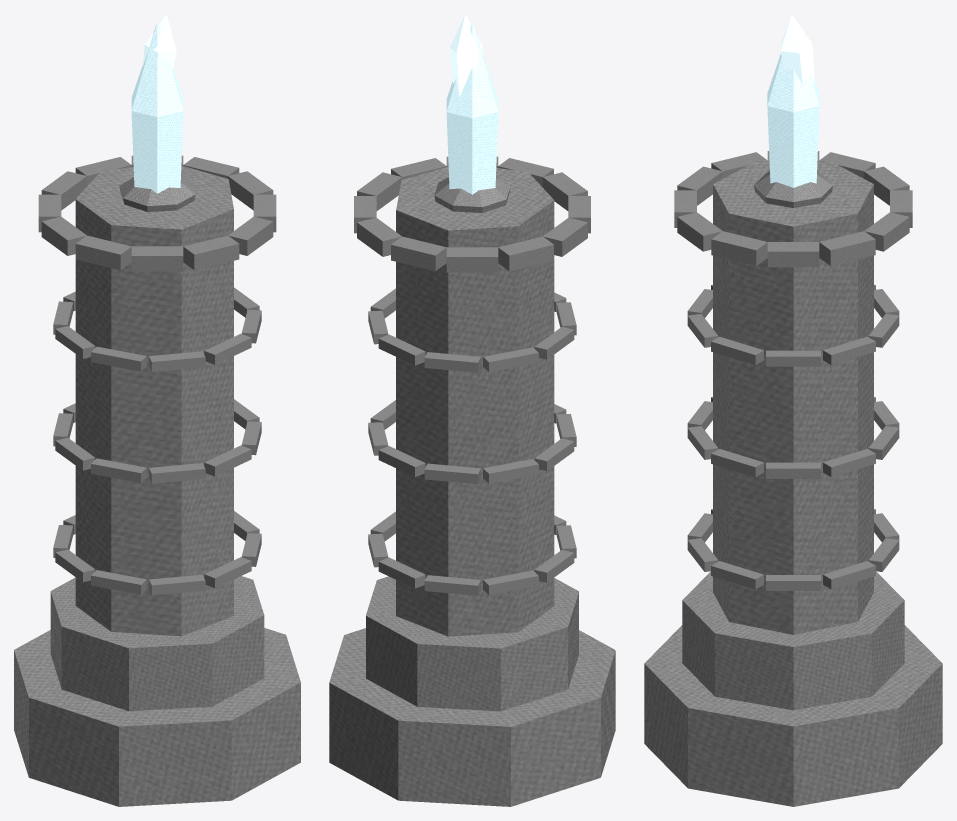
The model's file is crystal-wardstone.glb.
3 renders of one model, left to right at view 1: azimuth 30°, elevation 25°; view 2: azimuth 150°, elevation 25°; view 3: azimuth 270°, elevation 25°, orthographic.
Parts seen in each view (by area): view 1: monolith, base, plinth, ward-crystal, socket, crown-3, crown-5, crown-4, crown-2, crown-6, crown-0, rune-band-1.0899999-3 (+17 smaller); view 2: monolith, base, plinth, ward-crystal, socket, ward-tip, crown-7, crown-9, crown-8, crown-6, crown-10, crown-0 (+17 smaller); view 3: monolith, base, plinth, ward-crystal, socket, ward-tip, crown-1, crown-11, crown-0, crown-2, crown-10, rune-band-1.0899999-0 (+20 smaller).
Boxes of the visible parts, <box> form: monolith: <box>75,165,233,636</box>; base: <box>14,628,300,806</box>; plinth: <box>50,576,264,711</box>; ward-crystal: <box>131,21,183,193</box>; socket: <box>119,176,195,211</box>; crown-3: <box>183,235,239,270</box>; crown-5: <box>75,235,131,270</box>; crown-4: <box>131,246,183,271</box>; crown-2: <box>228,216,273,255</box>; crown-6: <box>41,216,86,255</box>; crown-0: <box>228,171,273,210</box>; rune-band-1.0899999-3: <box>149,463,205,483</box>; monolith: <box>396,166,554,636</box>; base: <box>329,628,615,806</box>; plinth: <box>366,576,578,711</box>; ward-crystal: <box>446,23,498,194</box>; socket: <box>434,177,510,212</box>; ward-tip: <box>450,14,482,96</box>; crown-7: <box>498,236,553,271</box>; crown-9: <box>391,236,446,271</box>; crown-8: <box>446,247,498,272</box>; crown-6: <box>543,217,587,256</box>; crown-10: <box>357,217,401,256</box>; crown-0: <box>357,172,402,210</box>; monolith: <box>713,160,873,634</box>; base: <box>644,625,942,806</box>; plinth: <box>682,571,904,710</box>; ward-crystal: <box>767,16,819,187</box>; socket: <box>754,171,832,207</box>; ward-tip: <box>780,14,814,84</box>; crown-1: <box>711,231,767,265</box>; crown-11: <box>819,231,875,265</box>; crown-0: <box>767,242,819,267</box>; crown-2: <box>677,212,722,251</box>; crown-10: <box>864,212,909,251</box>; rune-band-1.0899999-0: <box>766,462,820,478</box>.
Bounding box in the file's own units: 0.94 × 2.55 × 0.94.
Materials: 6 (6 with a texture image).
